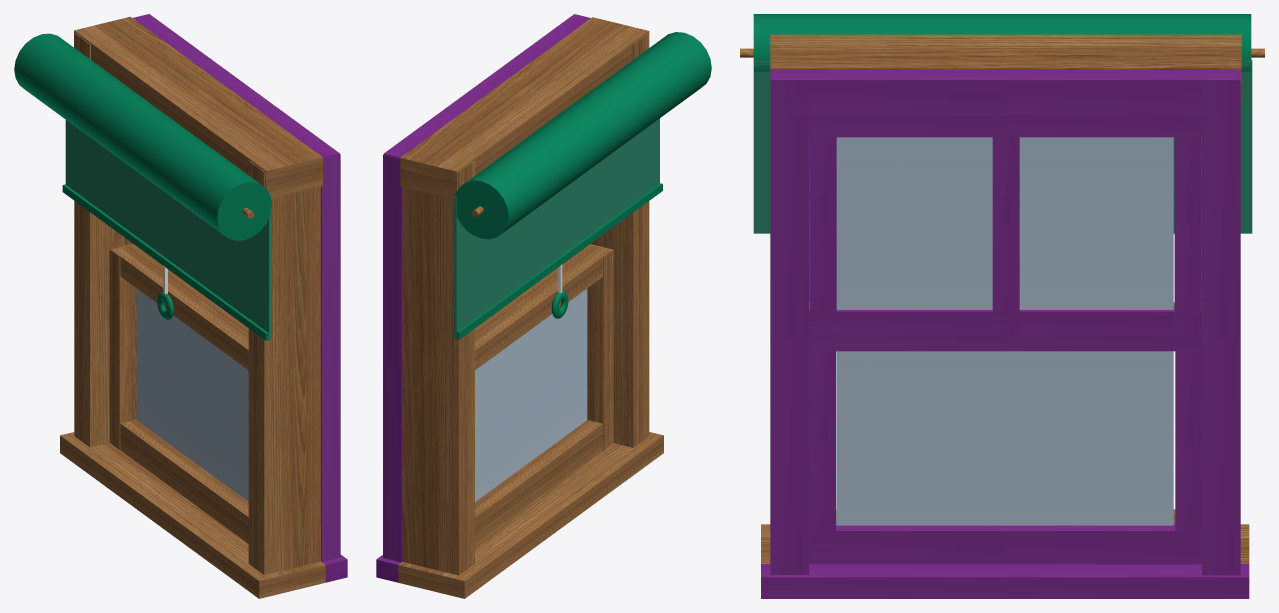
Rendered from ventana.obj.
The picture shows the model from 3 angles, left to right: view 1: azimuth 30°, elevation 25°; view 2: azimuth 150°, elevation 25°; view 3: azimuth 270°, elevation 25°; orthographic projection. The views are drawn at different scales.
Visible parts, largest first — view 1: cuarto:polySurface7275polySurface7408, cuarto:polySurface7275polySurface7389, cuarto:polySurface7275polySurface7391, cuarto:polySurface7275polySurface7401, cuarto:polySurface7419polySurface7275, cuarto:polySurface7275polySurface7403, cuarto:polySurface7275polySurface7386, cuarto:polySurface7275polySurface7392, cuarto:polySurface7275polySurface7414, cuarto:polySurface7275polySurface7411, cuarto:polySurface7275polySurface7409, cuarto:polySurface7275polySurface7405 (+2 smaller); view 2: cuarto:polySurface7275polySurface7386, cuarto:polySurface7275polySurface7389, cuarto:polySurface7275polySurface7391, cuarto:polySurface7275polySurface7401, cuarto:polySurface7419polySurface7275, cuarto:polySurface7275polySurface7403, cuarto:polySurface7275polySurface7408, cuarto:polySurface7275polySurface7404, cuarto:polySurface7275polySurface7414, cuarto:polySurface7275polySurface7411, cuarto:polySurface7275polySurface7410, cuarto:polySurface7275polySurface7405 (+2 smaller); view 3: cuarto:polySurface7275polySurface7401, cuarto:polySurface7275polySurface7402, cuarto:polySurface7275polySurface7405, cuarto:polySurface7275polySurface7404, cuarto:polySurface7275polySurface7392, cuarto:polySurface7275polySurface7391, cuarto:polySurface7275polySurface7397, cuarto:polySurface7275polySurface7400, cuarto:polySurface7275polySurface7389, cuarto:polySurface7275polySurface7406, cuarto:polySurface7275polySurface7394, cuarto:polySurface7275polySurface7412 (+8 smaller).
Boxes of the visible parts, x1,y1,x2,y2 form: cuarto:polySurface7275polySurface7408: [248, 160, 320, 575]; cuarto:polySurface7275polySurface7389: [14, 33, 271, 240]; cuarto:polySurface7275polySurface7391: [74, 16, 322, 198]; cuarto:polySurface7275polySurface7401: [136, 288, 248, 501]; cuarto:polySurface7419polySurface7275: [65, 120, 271, 339]; cuarto:polySurface7275polySurface7403: [60, 432, 325, 598]; cuarto:polySurface7275polySurface7386: [74, 33, 132, 447]; cuarto:polySurface7275polySurface7392: [321, 154, 340, 561]; cuarto:polySurface7275polySurface7414: [120, 419, 248, 543]; cuarto:polySurface7275polySurface7411: [112, 245, 248, 369]; cuarto:polySurface7275polySurface7409: [109, 244, 136, 449]; cuarto:polySurface7275polySurface7405: [133, 14, 339, 158]; cuarto:polySurface7275polySurface7386: [402, 160, 474, 575]; cuarto:polySurface7275polySurface7389: [455, 32, 711, 239]; cuarto:polySurface7275polySurface7391: [400, 17, 649, 199]; cuarto:polySurface7275polySurface7401: [475, 288, 587, 501]; cuarto:polySurface7419polySurface7275: [453, 118, 659, 338]; cuarto:polySurface7275polySurface7403: [398, 432, 663, 598]; cuarto:polySurface7275polySurface7408: [591, 33, 649, 447]; cuarto:polySurface7275polySurface7404: [383, 154, 402, 562]; cuarto:polySurface7275polySurface7414: [475, 420, 602, 543]; cuarto:polySurface7275polySurface7411: [475, 245, 611, 369]; cuarto:polySurface7275polySurface7410: [587, 244, 613, 450]; cuarto:polySurface7275polySurface7405: [384, 14, 590, 157]; cuarto:polySurface7275polySurface7401: [836, 351, 1173, 525]; cuarto:polySurface7275polySurface7402: [836, 137, 1173, 309]; cuarto:polySurface7275polySurface7405: [771, 69, 1238, 115]; cuarto:polySurface7275polySurface7404: [1202, 70, 1240, 575]; cuarto:polySurface7275polySurface7392: [770, 70, 808, 574]; cuarto:polySurface7275polySurface7391: [770, 34, 1241, 103]; cuarto:polySurface7275polySurface7397: [761, 564, 1249, 598]; cuarto:polySurface7275polySurface7400: [810, 523, 1199, 564]; cuarto:polySurface7275polySurface7389: [753, 14, 1251, 71]; cuarto:polySurface7275polySurface7406: [809, 308, 1201, 335]; cuarto:polySurface7275polySurface7394: [809, 115, 1201, 137]; cuarto:polySurface7275polySurface7412: [810, 336, 1199, 351].
Size of the model in its own units: 0.6025 by 1.82 by 1.67.
Materials: 7 (7 with a texture image).
